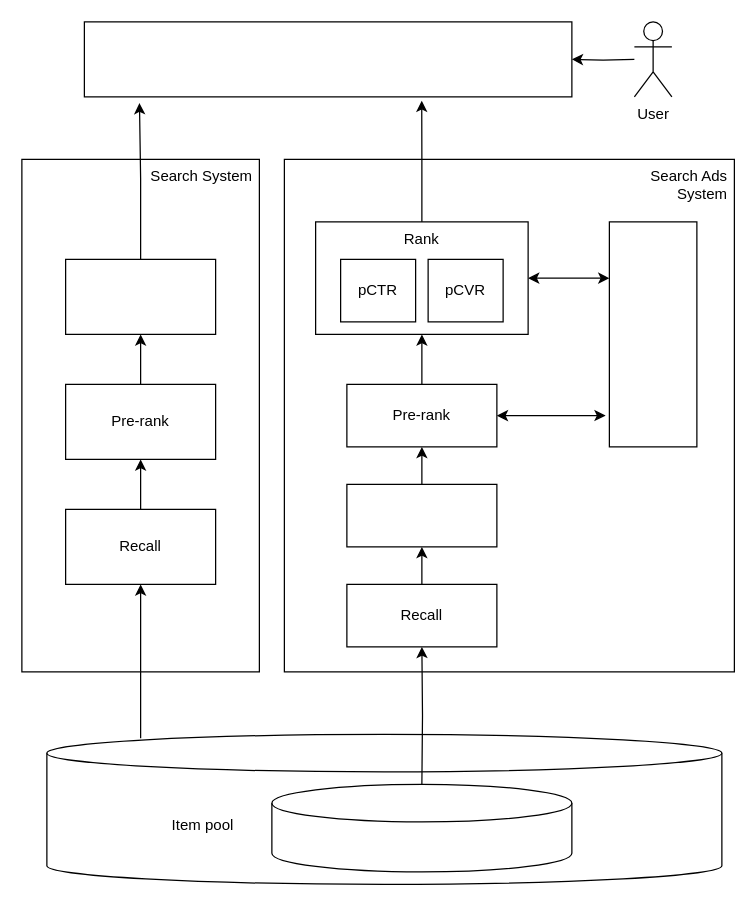
Some shapes in this 756 by 906 pixel diagram are drawn without their labels. The centre of each missing label's shape, as x and y in pixels:
Ads pool: the point at 421,827
Bidding: the point at 652,334
Combination: the point at 327,59
Rank (pCTR): the point at 140,296
Relevance Filter: the point at 421,515
